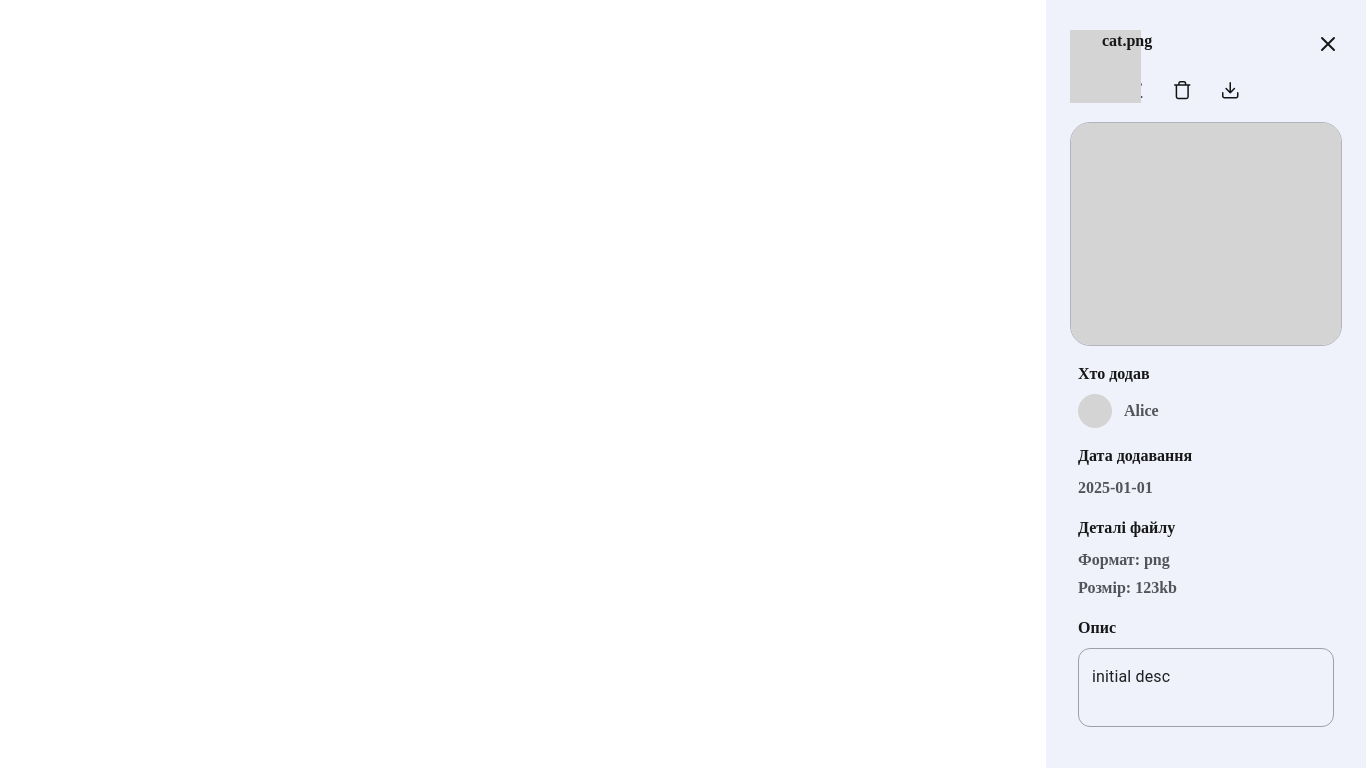
Scenario: FileInfoSidebar › should open the local delete modal when usage links are omitted
What coordinates should you click on to do the following:
click the button named "Видалити"
I would click on:
 (1182, 90)
Its box is 1166,74 -> 1198,106.
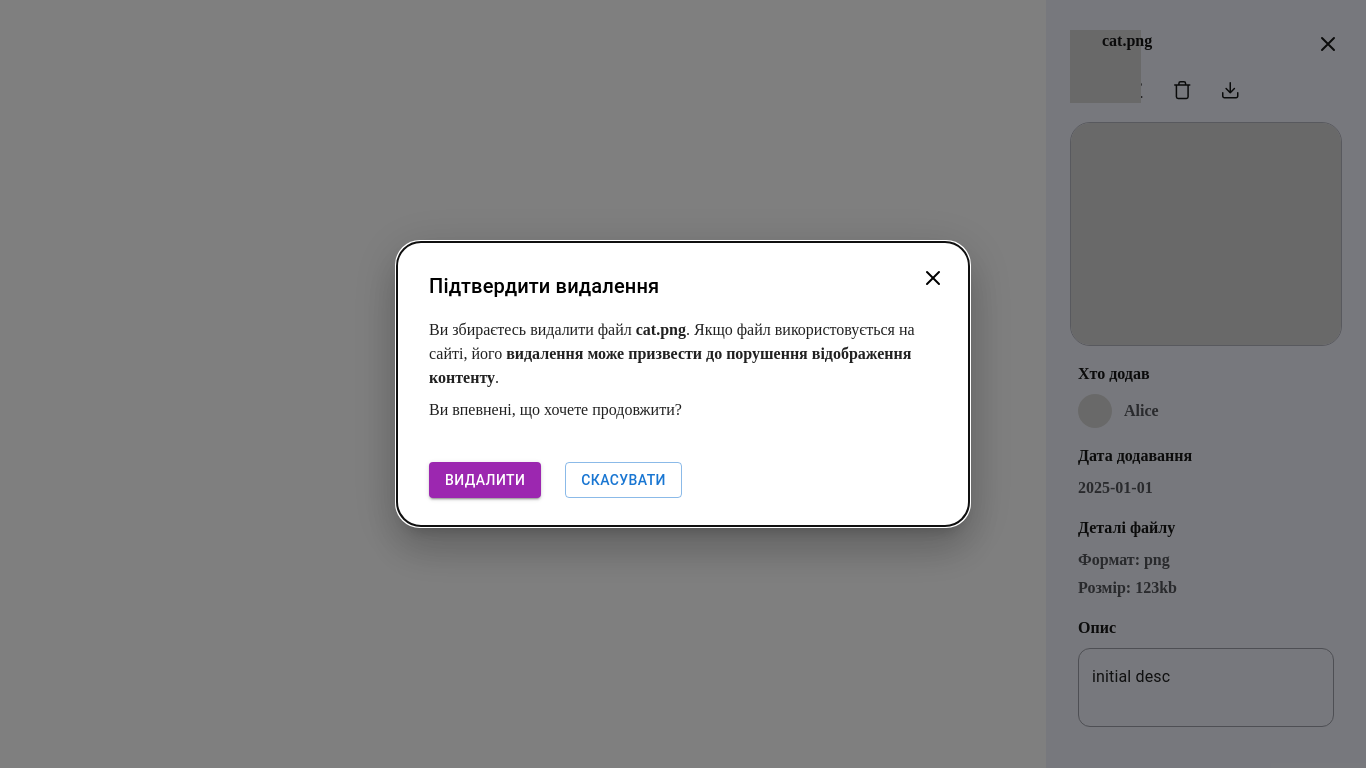
Check: the dialog is shown, box 397,242 -> 969,526
